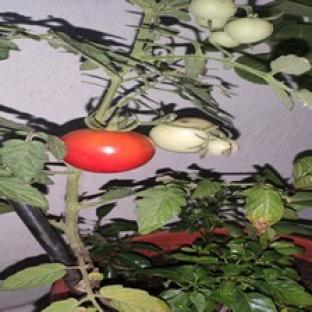Tomato: (62, 129, 155, 172), (150, 117, 238, 155), (225, 17, 272, 43), (209, 31, 239, 48)
